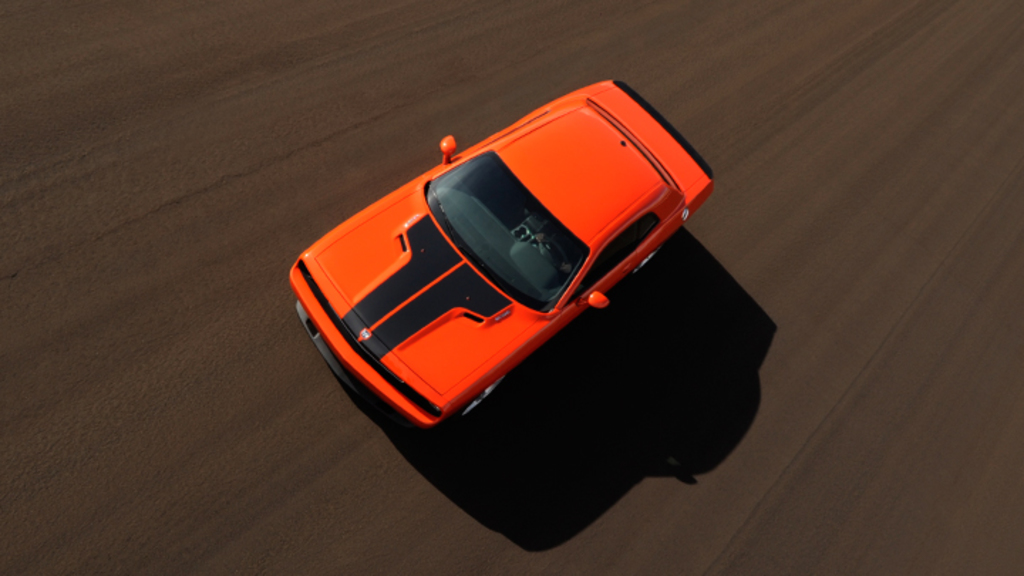Car: (287, 63, 738, 503)
